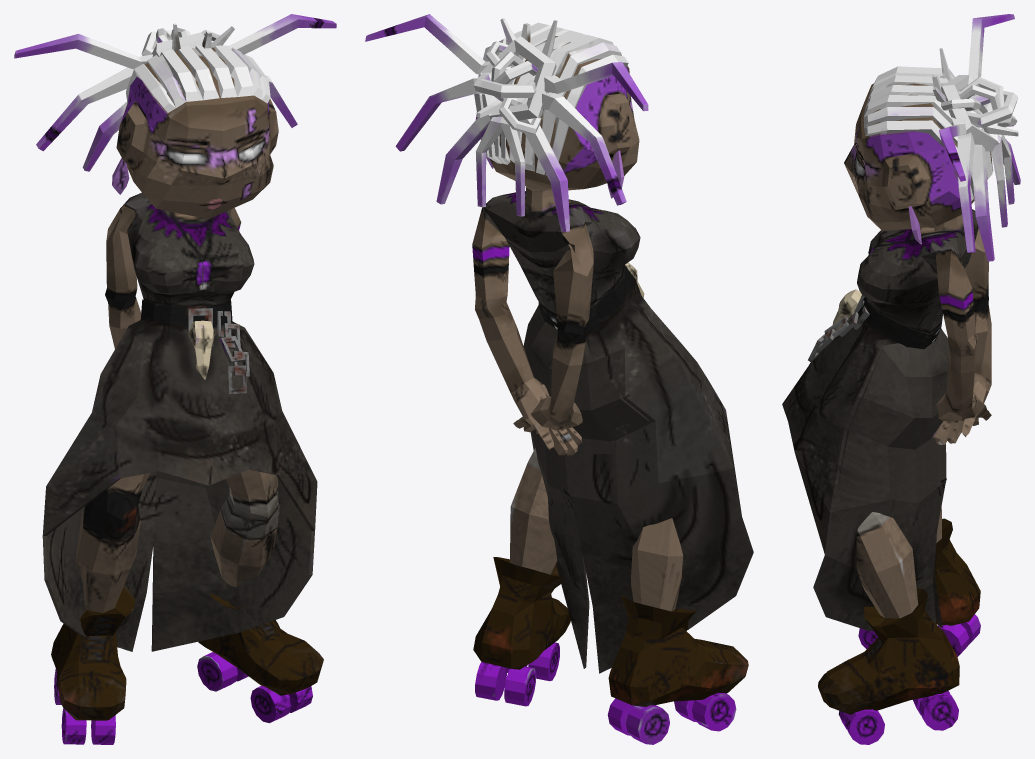
The model's file is bruja_000005.obj.
3 views of the same model, side by side, from view 1: azimuth 30°, elevation 25°; view 2: azimuth 150°, elevation 25°; view 3: azimuth 270°, elevation 25° (orthographic). The views are drawn at different scales.
Visible parts, largest first — view 1: Bruja_Plane.001; view 2: Bruja_Plane.001; view 3: Bruja_Plane.001.
Part boxes in pixels (x1=…): Bruja_Plane.001: x1=14, y1=14, x2=336, y2=744; Bruja_Plane.001: x1=365, y1=14, x2=753, y2=744; Bruja_Plane.001: x1=782, y1=14, x2=1020, y2=744.
Size of the model in its own units: 8.26 by 16.11 by 5.3.
